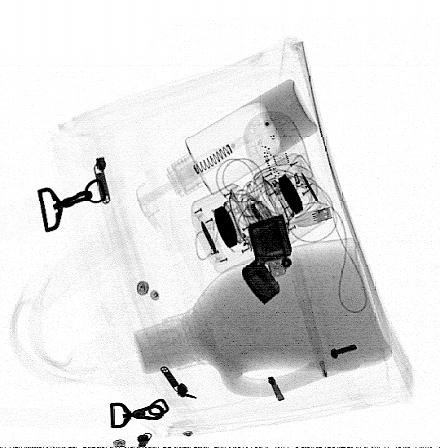Lighter: (242, 213, 294, 307)
